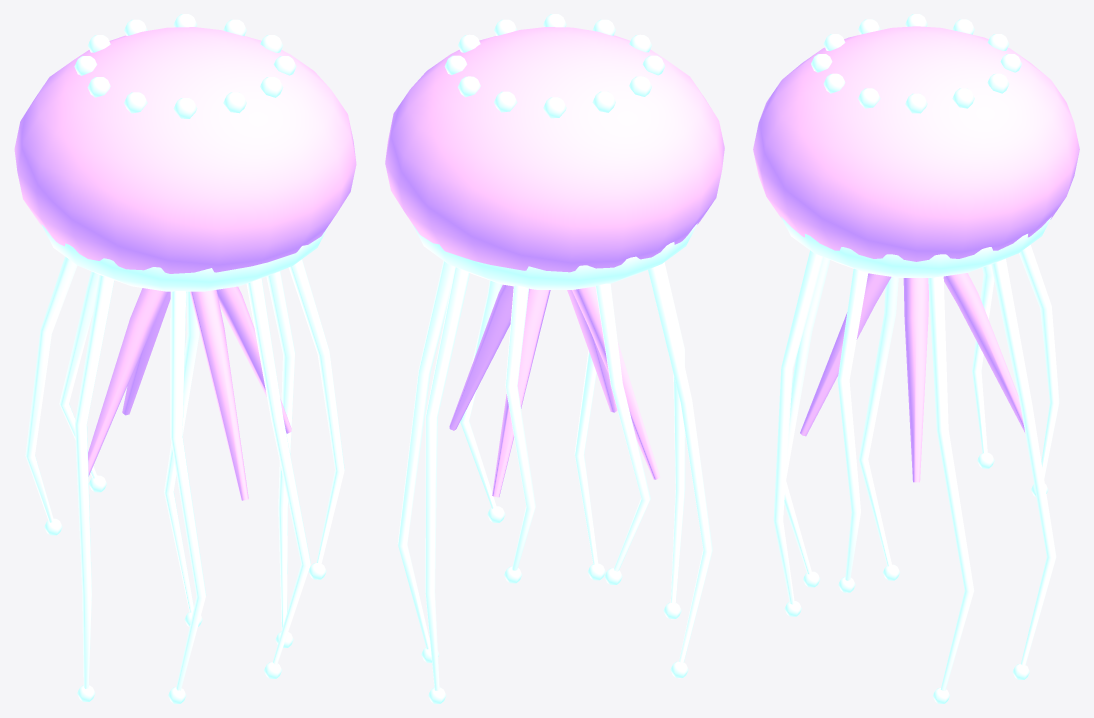
The model's file is creature_floater.glb.
3 renders of one model, left to right at view 1: azimuth 30°, elevation 25°; view 2: azimuth 150°, elevation 25°; view 3: azimuth 270°, elevation 25°, orthographic. The views are drawn at different scales.
Parts seen in each view (by area): view 1: Creature_Floater; view 2: Creature_Floater; view 3: Creature_Floater.
Part boxes in pixels (x1=…): Creature_Floater: x1=14, y1=14, x2=356, y2=703; Creature_Floater: x1=385, y1=14, x2=724, y2=703; Creature_Floater: x1=753, y1=14, x2=1079, y2=703.
Size of the model in its own units: 2.6 by 5.31 by 2.6.
